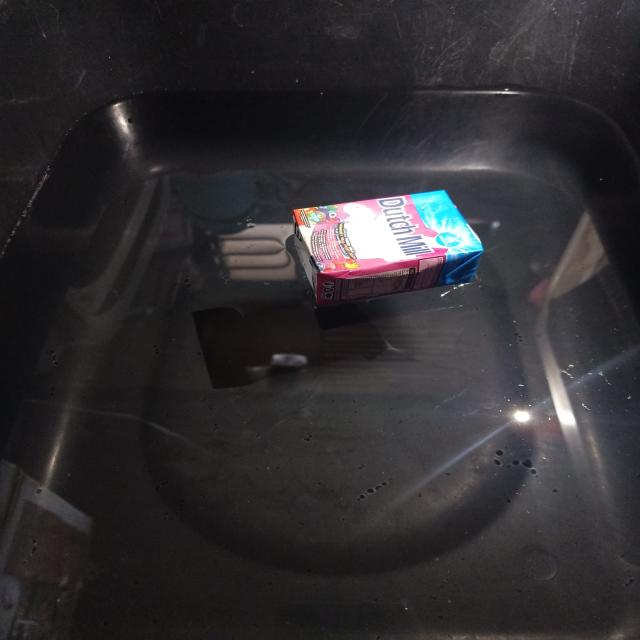Cardboard Box: (294, 191, 483, 304)
